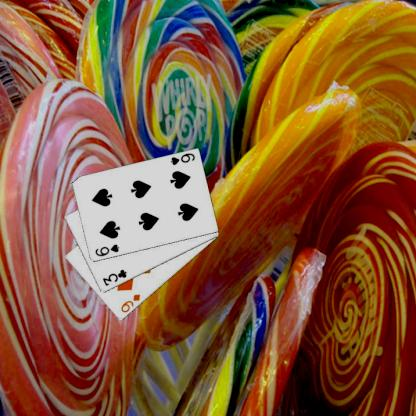3C: (100, 267, 128, 288)
6S: (92, 242, 120, 258), (168, 151, 196, 167)
9D: (118, 292, 141, 314)
